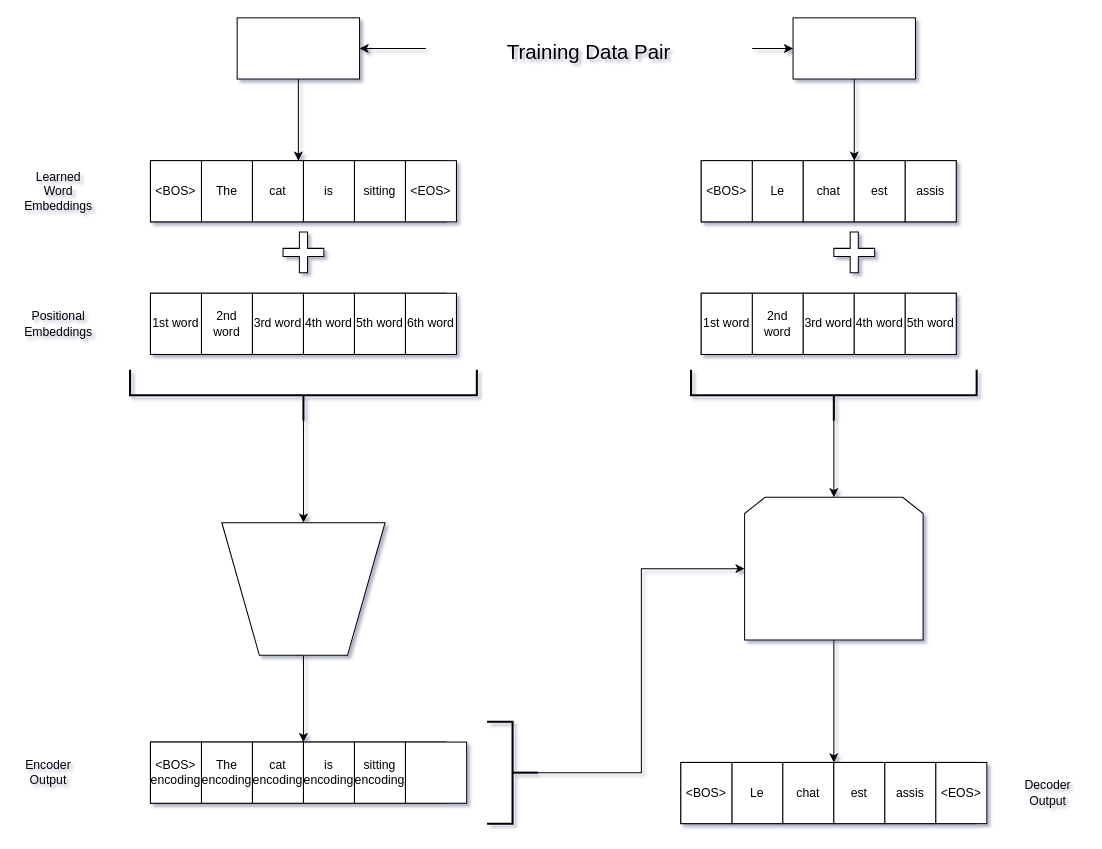
Some shapes in this 1102 by 849 pixel diagram are drawn without their labels. The centre of each missing label's shape, as x and y in pixels:
<EOS> encoding: the point at 435,772
Decoder: the point at 833,568
Encoder: the point at 303,588
Le chat est assis: the point at 853,48
The cat is sitting: the point at 298,48
